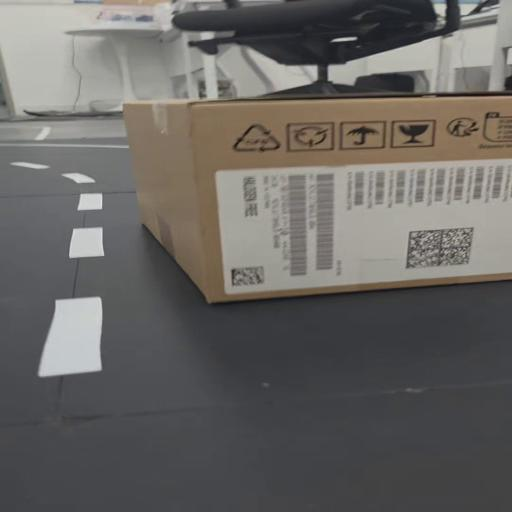Box: (117, 91, 512, 312)
